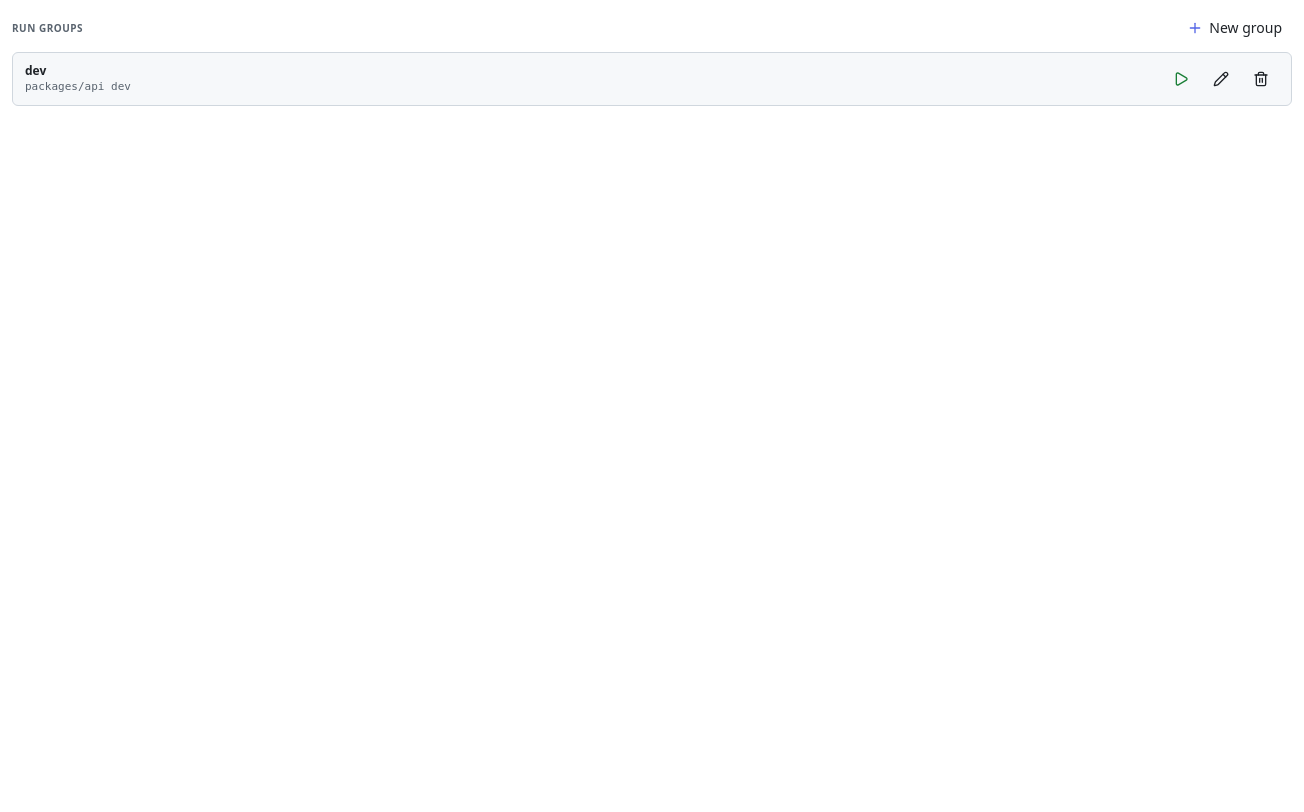
Scenario: RunGroups › warns about compose steps that did not work
The width and height of the screenshot is (1304, 812).
Click the button named "Start group dev" at (1181, 79), box x1=1163 y1=61 x2=1199 y2=97
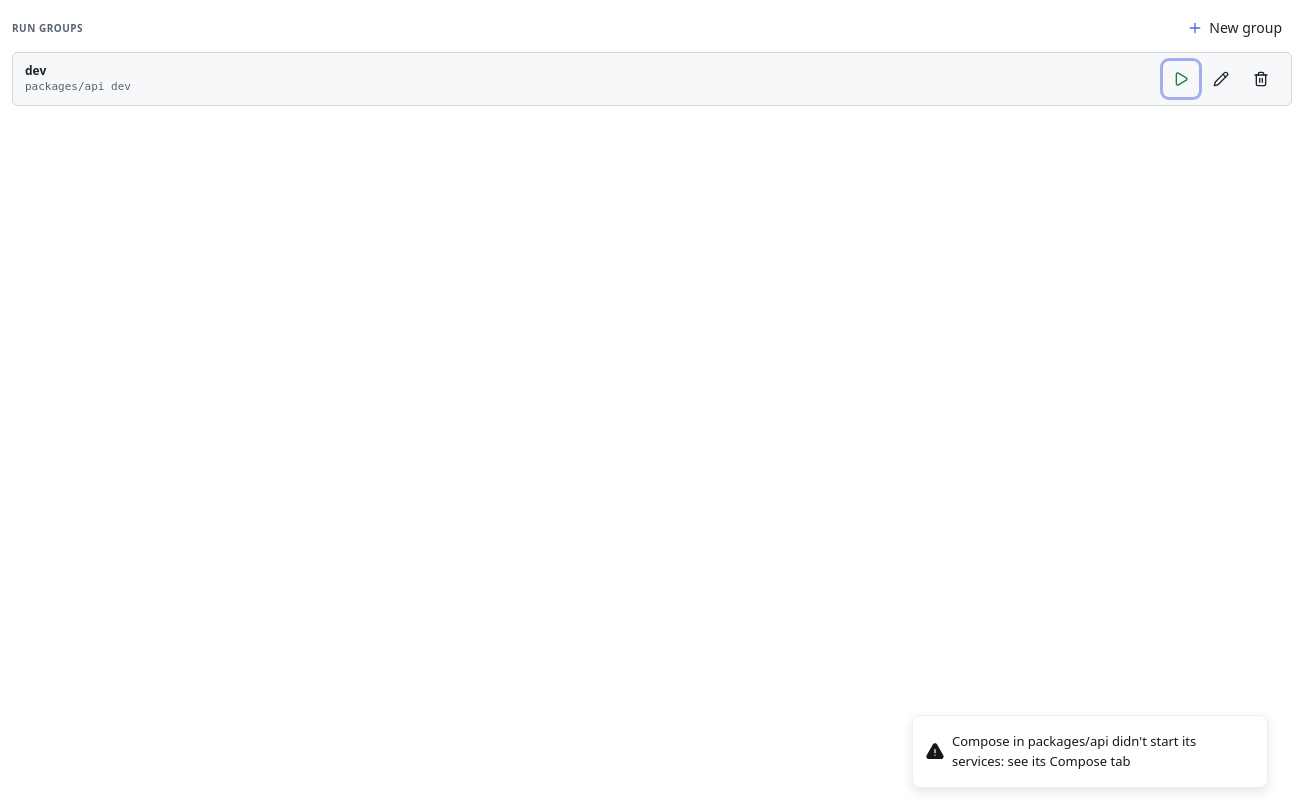
Now the text "Compose in packages/api didn't start its services: see its Compose tab" is shown, box x1=952 y1=732 x2=1196 y2=770
